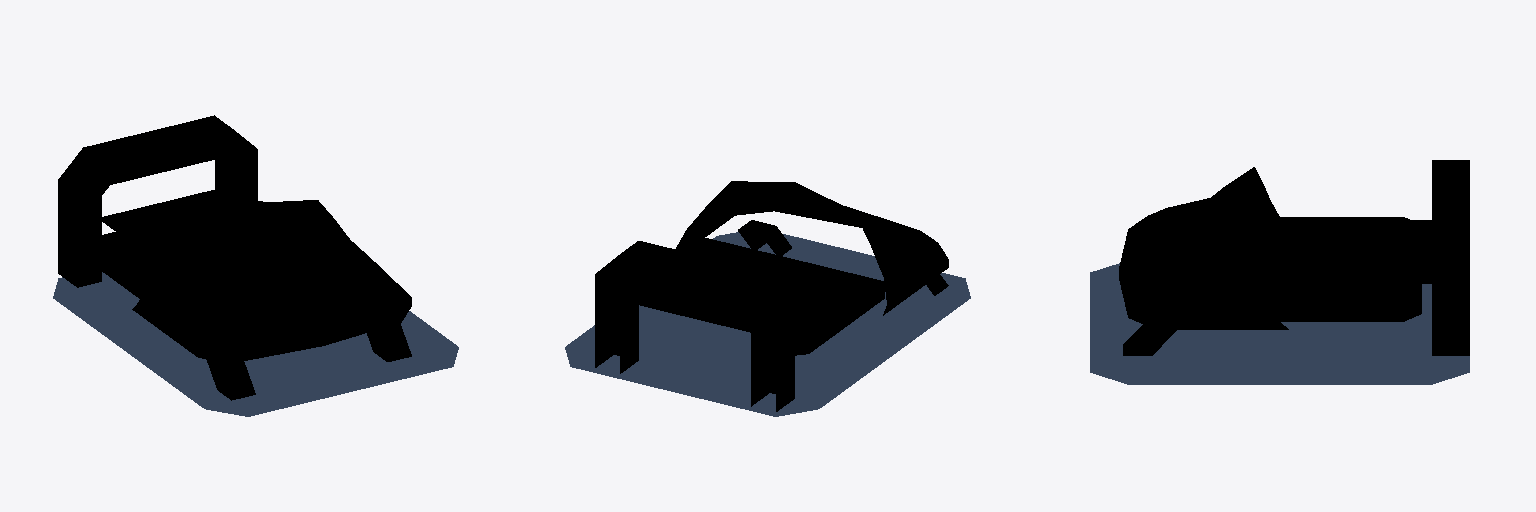
The model's file is Bed.obj.
3 renders of one model, left to right at view 1: azimuth 30°, elevation 25°; view 2: azimuth 150°, elevation 25°; view 3: azimuth 270°, elevation 25°, orthographic.
Visible parts, largest first — view 1: polygon1, polygon0; view 2: polygon1, polygon0; view 3: polygon1, polygon0.
Part boxes in pixels (bbox=[...]): polygon1: bbox=[58, 115, 411, 400]; polygon0: bbox=[53, 272, 458, 416]; polygon1: bbox=[595, 181, 948, 411]; polygon0: bbox=[565, 232, 970, 416]; polygon1: bbox=[1119, 160, 1469, 355]; polygon0: bbox=[1090, 263, 1469, 384].
Size of the model in its own units: 31 by 15.5 by 40.